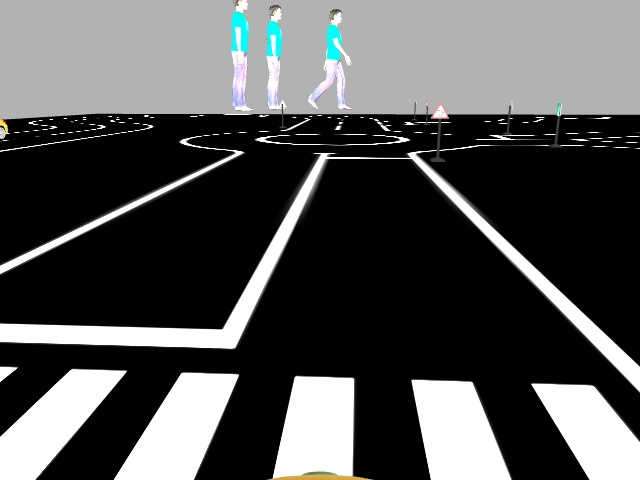Roundabout: (428, 102, 450, 123)
